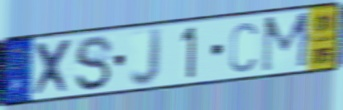1: (180, 25, 197, 80)
C: (228, 20, 259, 75)
J: (128, 26, 164, 88)
M: (259, 9, 314, 75)
S: (73, 34, 115, 93)
X: (32, 36, 77, 99)
